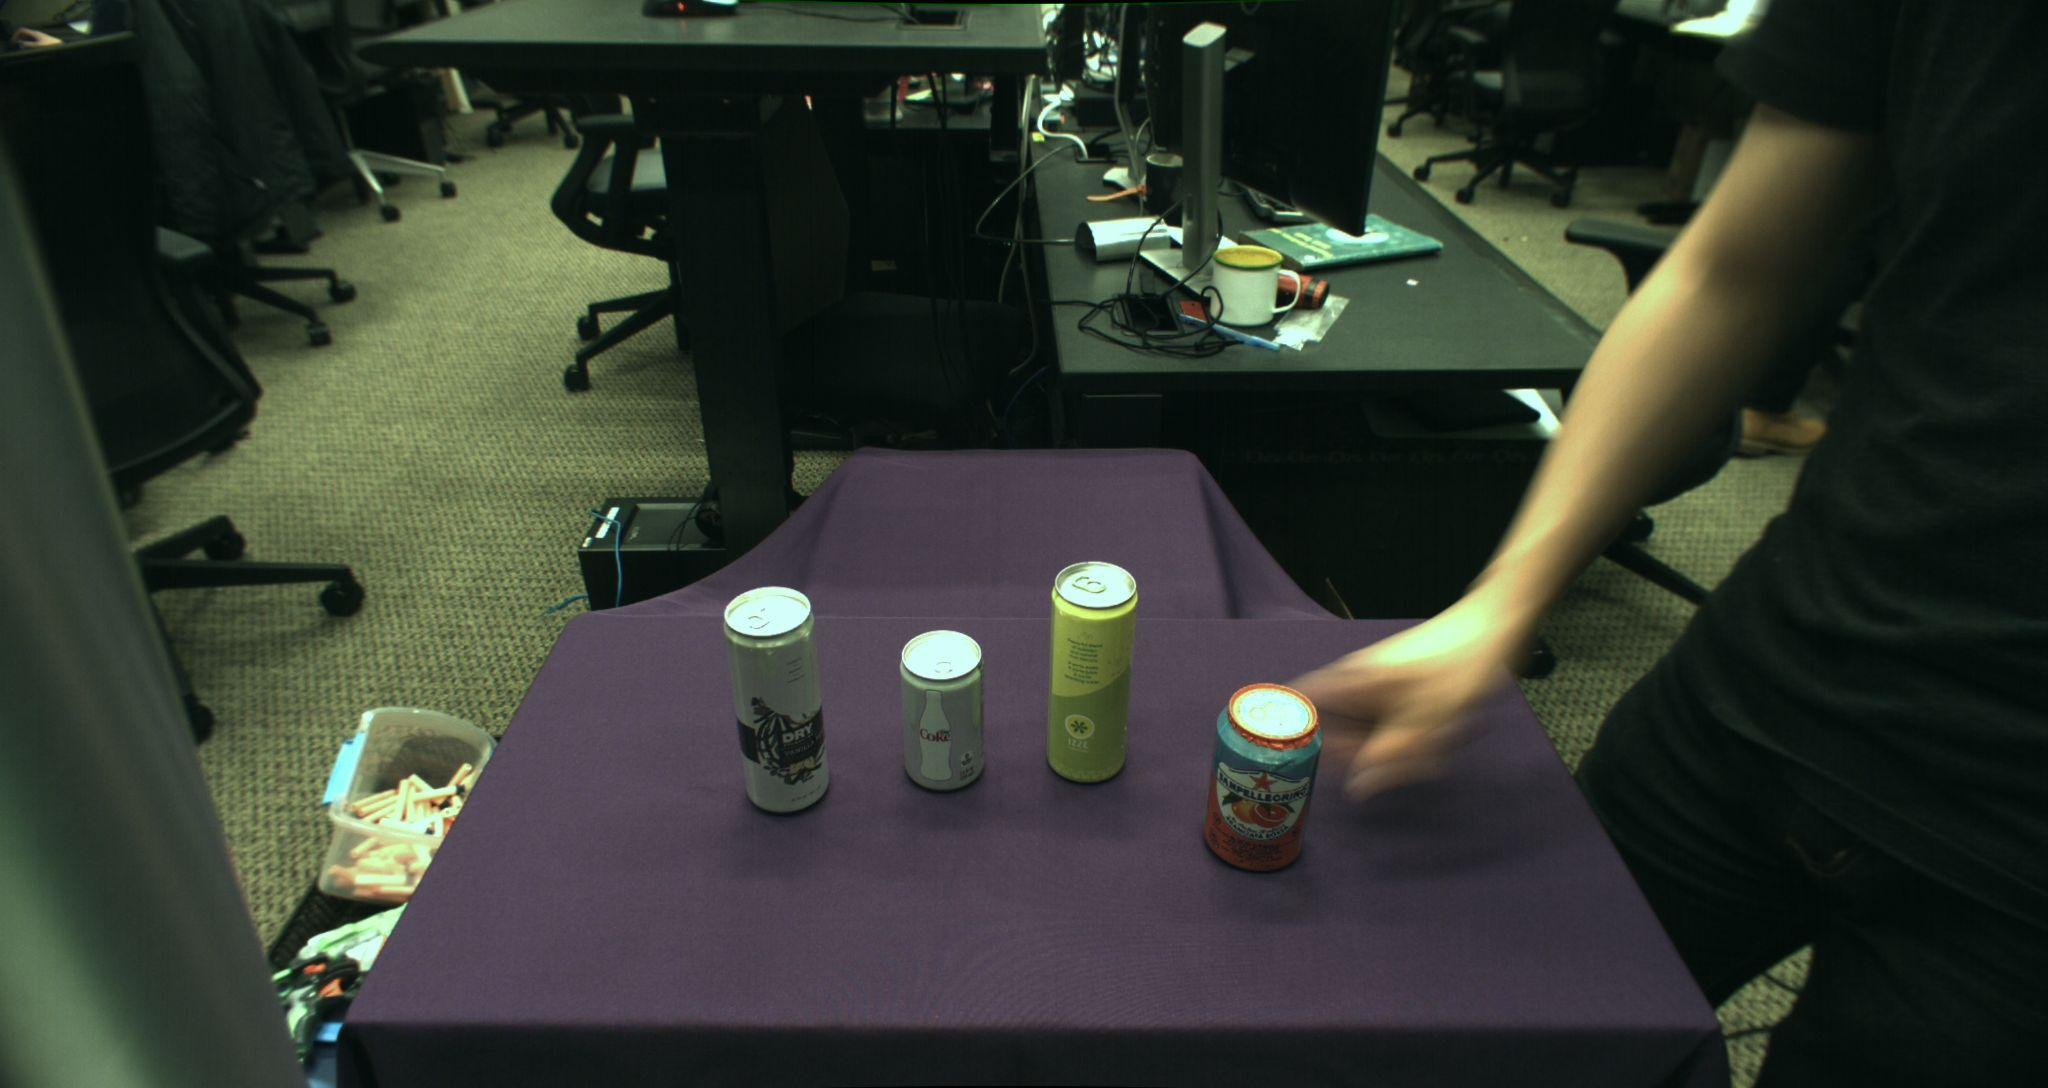can_diet_coke_small: (899, 629, 987, 795)
can_dry_sparkling_vanilla_bean: (722, 585, 830, 816)
can_izze_fusions_lemon_lime: (1046, 560, 1139, 784)
can_sanpellegrino_blood_orange: (1201, 682, 1323, 877)
